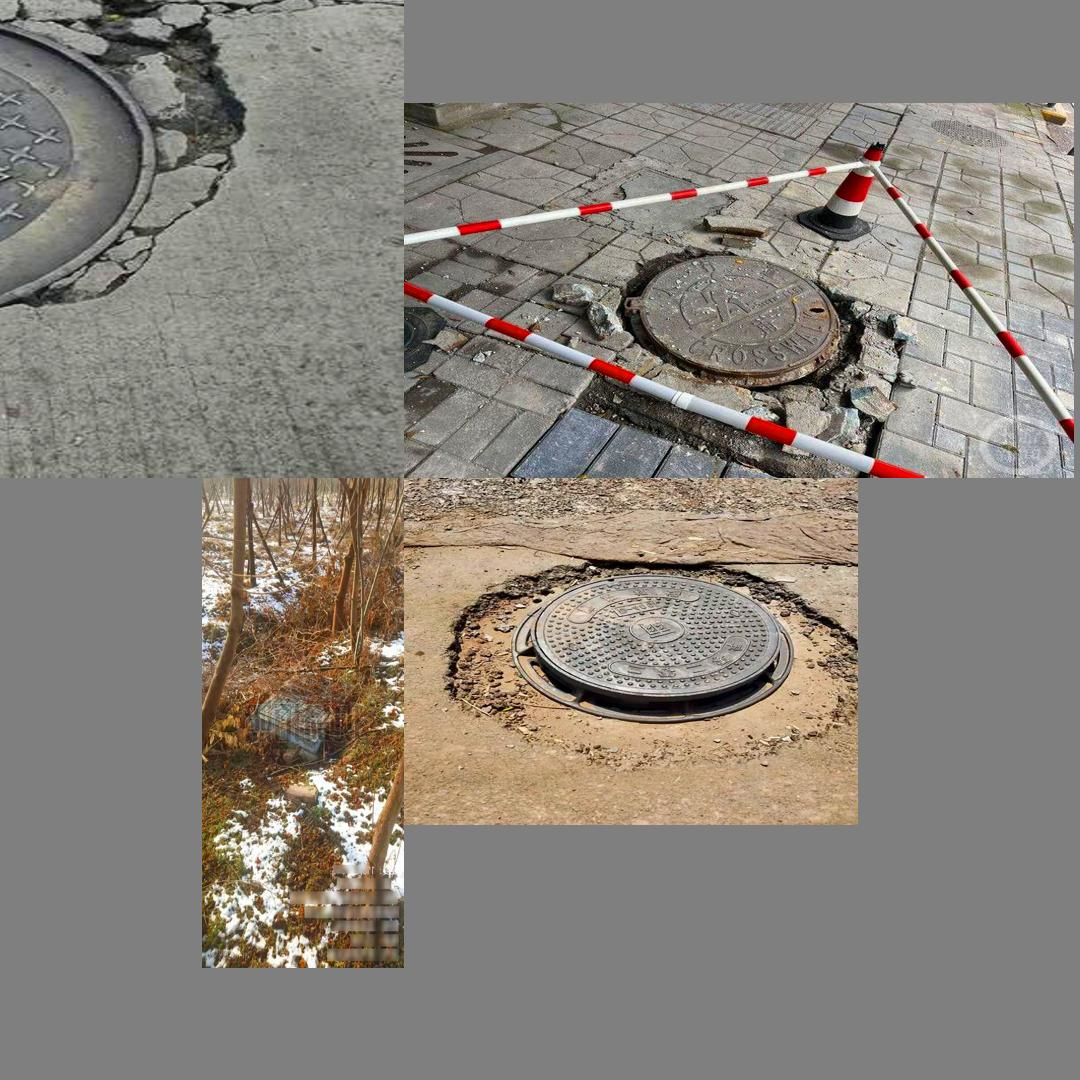circle: (0, 0, 261, 366), (449, 562, 849, 765), (569, 231, 896, 465), (249, 667, 354, 757)
